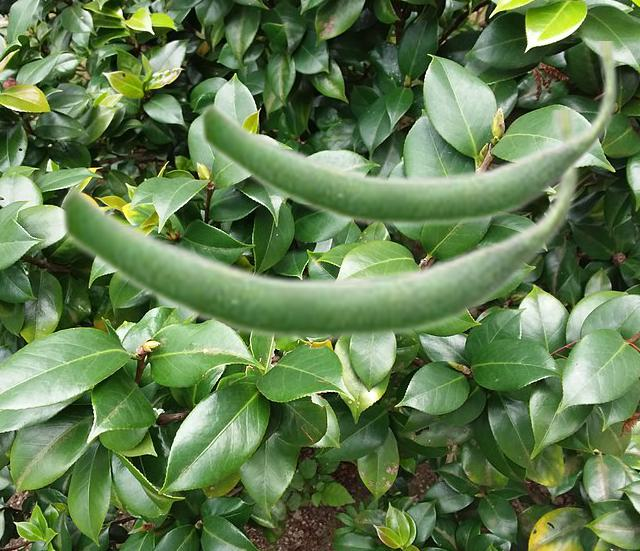french_bean: (58, 110, 580, 344), (198, 41, 618, 229)
